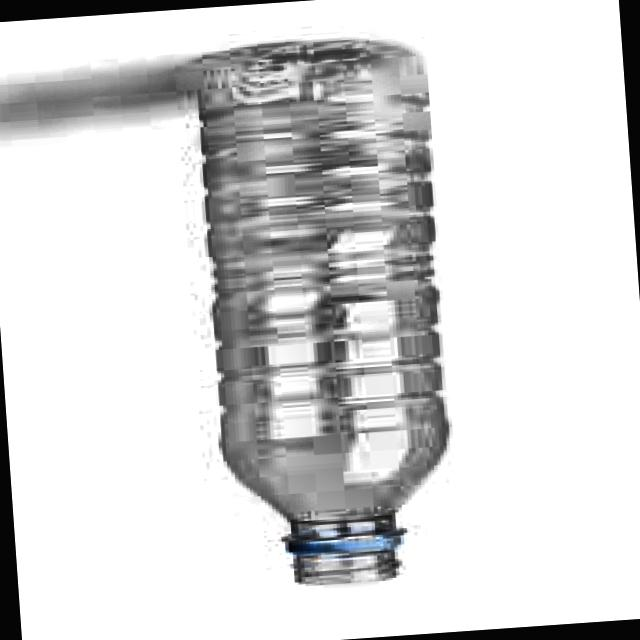plastic bottle: (201, 46, 449, 580)
